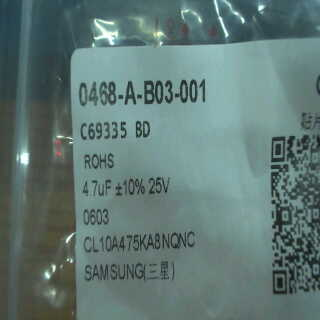4.7uF: (82, 174, 114, 203)
